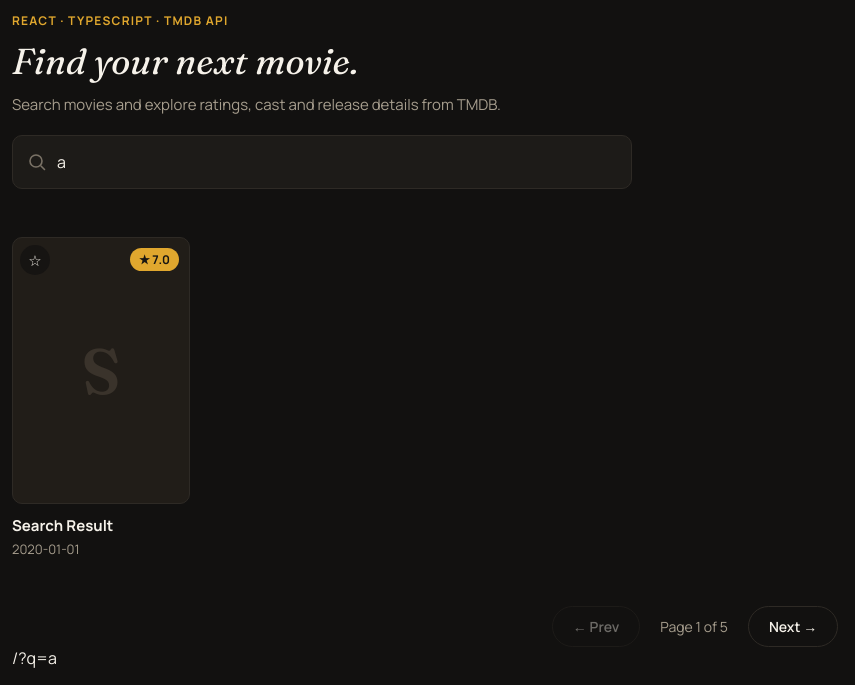
Test: Home URL state › removes q from the URL when the input is cleared
The width and height of the screenshot is (855, 685).
Clear the field named "search movies" at (322, 162), box [12,135,632,189]
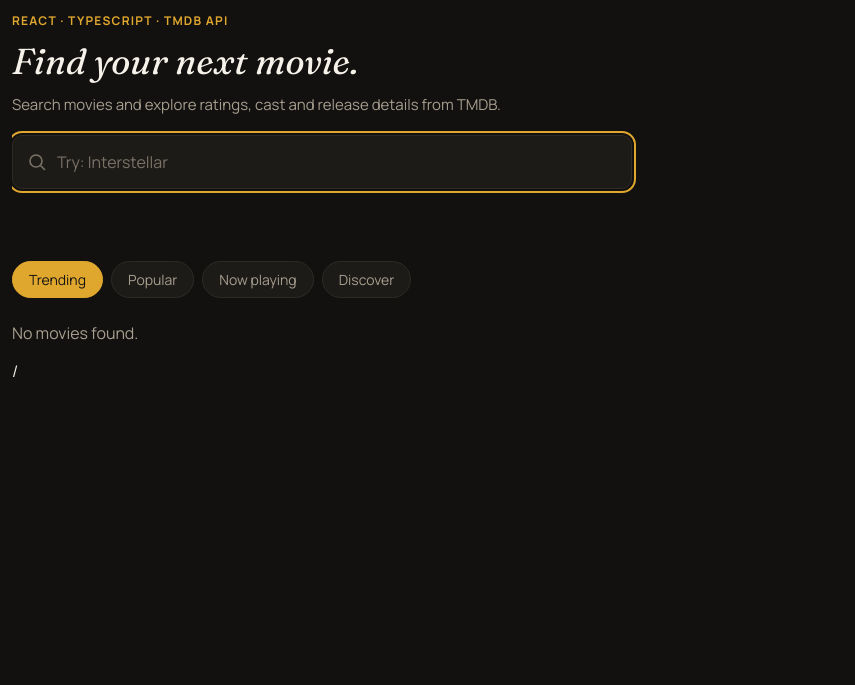
Result: the text with test id "location" reads "/" at [12,360,18,382]
